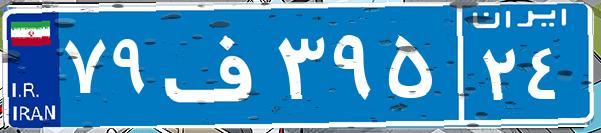2: (475, 38, 525, 113)
3: (273, 28, 330, 110)
4: (525, 38, 570, 115)
5: (385, 28, 445, 110)
7: (57, 26, 110, 107)
9: (330, 28, 385, 110), (110, 28, 158, 105)
ف: (158, 15, 273, 115)
